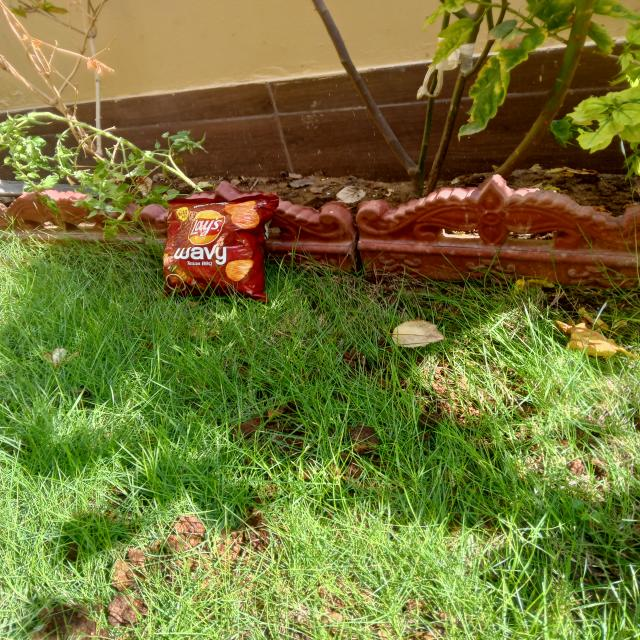Plastic: (166, 198, 271, 296)
